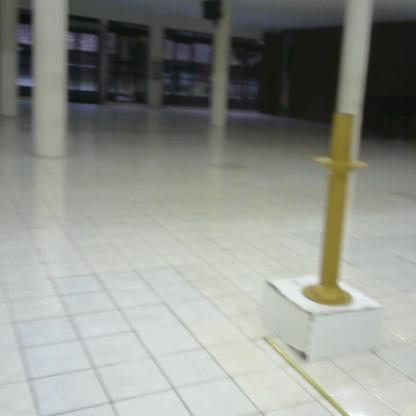pole: (296, 107, 375, 311)
